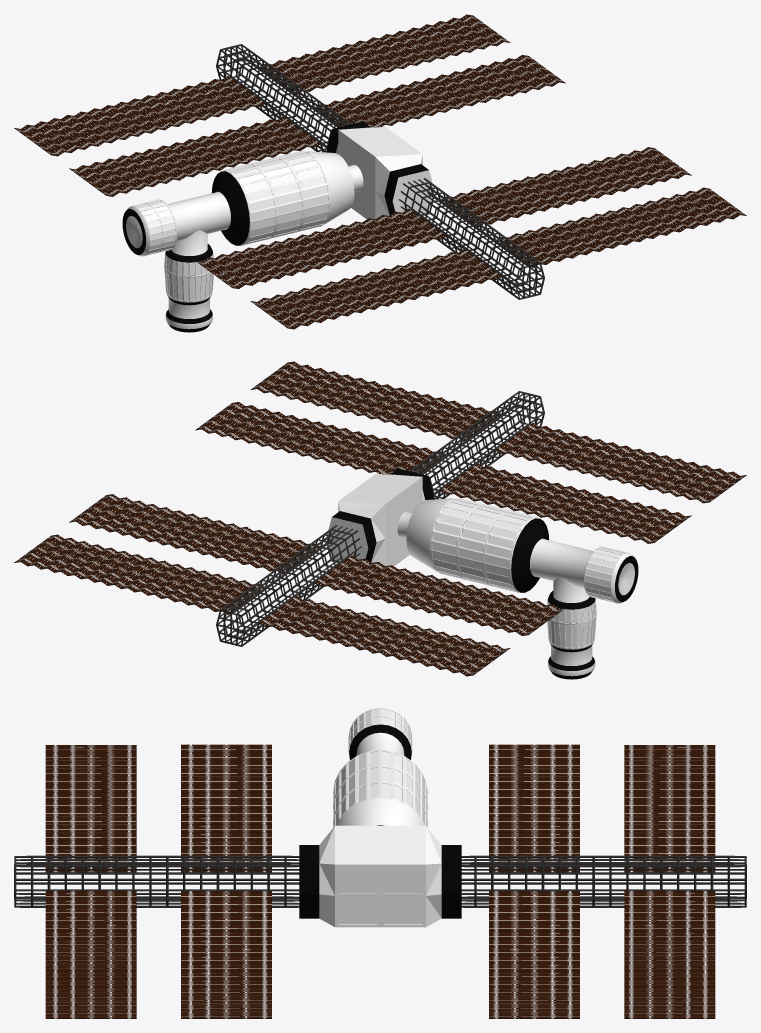
Rendered from station_spatial.obj.
3 views of the same model, one above another, from view 1: azimuth 30°, elevation 25°; view 2: azimuth 150°, elevation 25°; view 3: azimuth 270°, elevation 25° (orthographic). The views are drawn at different scales.
Parts seen in each view (by area): view 1: Circle_Circle_Panneau_solaire, Circle_Circle_metal_reflect, Circle_Circle_blanc_mat, Circle_Circle_noir; view 2: Circle_Circle_Panneau_solaire, Circle_Circle_metal_reflect, Circle_Circle_blanc_mat, Circle_Circle_noir; view 3: Circle_Circle_Panneau_solaire, Circle_Circle_metal_reflect, Circle_Circle_blanc_mat, Circle_Circle_noir.
Part boxes in pixels (x1,y1,x2,y2): Circle_Circle_Panneau_solaire: (15, 14, 746, 329); Circle_Circle_metal_reflect: (126, 127, 434, 329); Circle_Circle_blanc_mat: (190, 44, 544, 299); Circle_Circle_noir: (14, 41, 746, 332); Circle_Circle_Panneau_solaire: (14, 361, 745, 676); Circle_Circle_metal_reflect: (326, 474, 634, 676); Circle_Circle_blanc_mat: (216, 391, 570, 646); Circle_Circle_noir: (14, 388, 746, 679); Circle_Circle_Panneau_solaire: (45, 744, 715, 1018); Circle_Circle_metal_reflect: (319, 708, 441, 927); Circle_Circle_blanc_mat: (14, 855, 746, 907); Circle_Circle_noir: (46, 724, 714, 1018).
Size of the model in its own units: 27.33 by 7.71 by 29.8.
